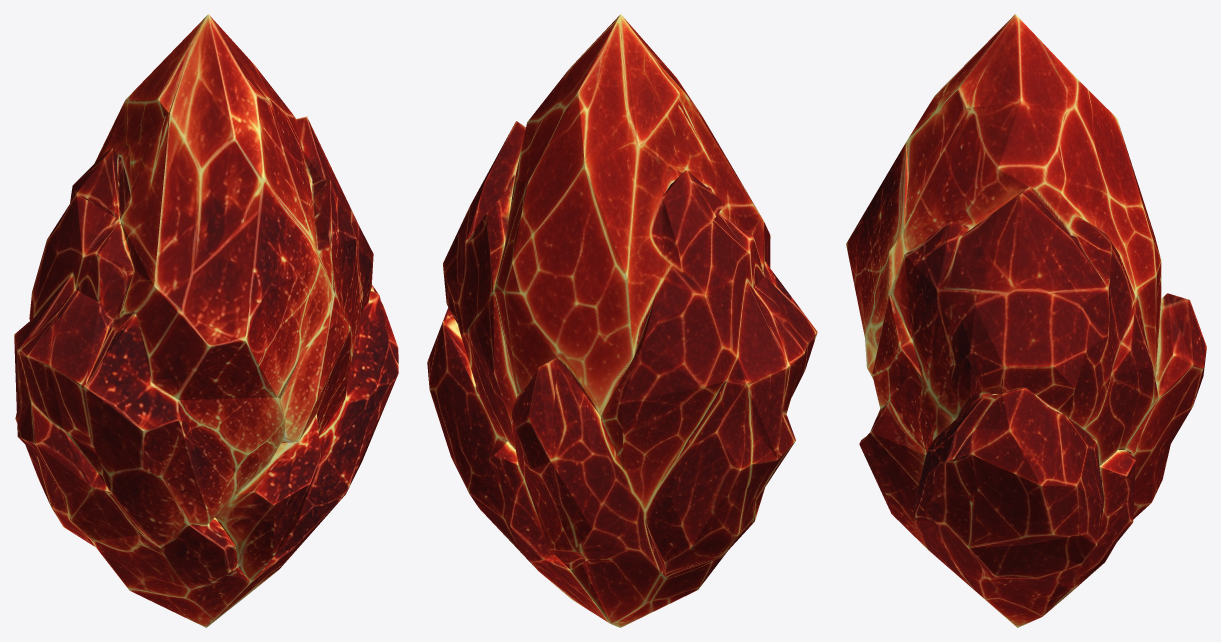
File: SM_ElementGem_Fire.fbx
The picture shows the model from 3 angles, left to right: view 1: azimuth 30°, elevation 25°; view 2: azimuth 150°, elevation 25°; view 3: azimuth 270°, elevation 25°; orthographic projection.
Parts seen in each view (by area): view 1: output_unwrapped; view 2: output_unwrapped; view 3: output_unwrapped.
Boxes of the visible parts, <box> form: output_unwrapped: <box>14,14,398,627</box>; output_unwrapped: <box>427,14,817,627</box>; output_unwrapped: <box>846,14,1206,627</box>.
Bounding box in the file's own units: 118 × 190 × 101.
Materials: 1 (1 with a texture image).
